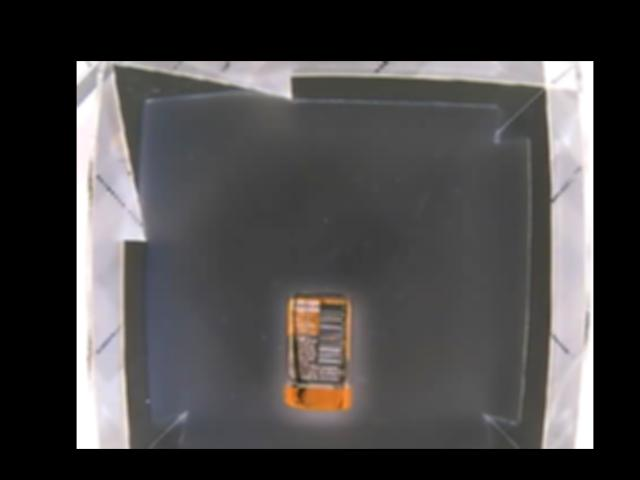Bottle: (283, 292, 355, 410)
